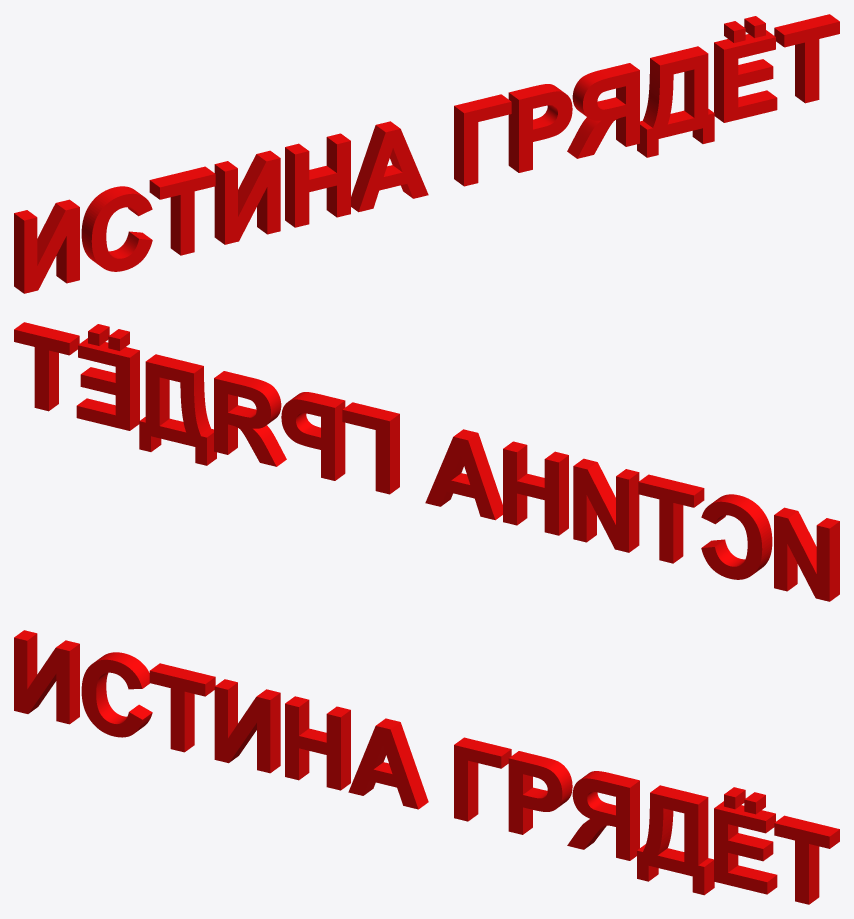
The model's file is truth.glb.
3 views of the same model, one above another, from view 1: azimuth 30°, elevation 25°; view 2: azimuth 150°, elevation 25°; view 3: azimuth 330°, elevation 25° (orthographic).
Visible parts, largest first — view 1: Text; view 2: Text; view 3: Text.
Part boxes in pixels (box(x1,y1,x2,y2)): Text: box(14, 14, 839, 293); Text: box(14, 322, 839, 601); Text: box(14, 630, 839, 904).
Size of the model in its own units: 5.82 by 0.7197 by 0.1258.
